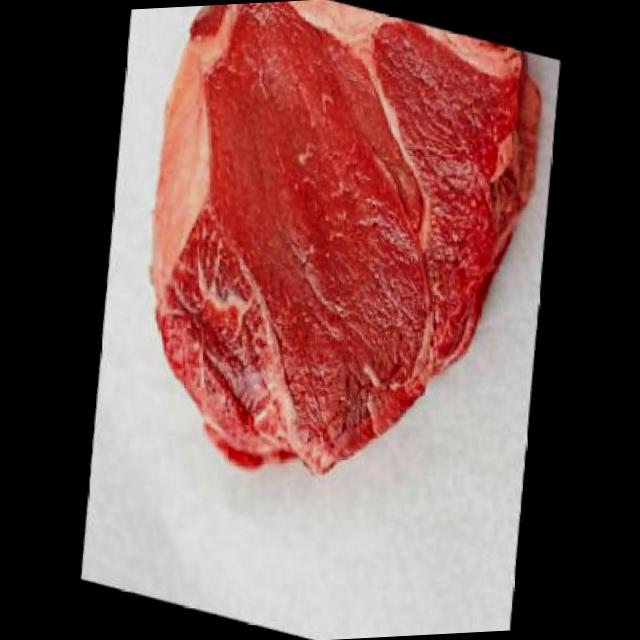beef: (105, 0, 573, 558)
